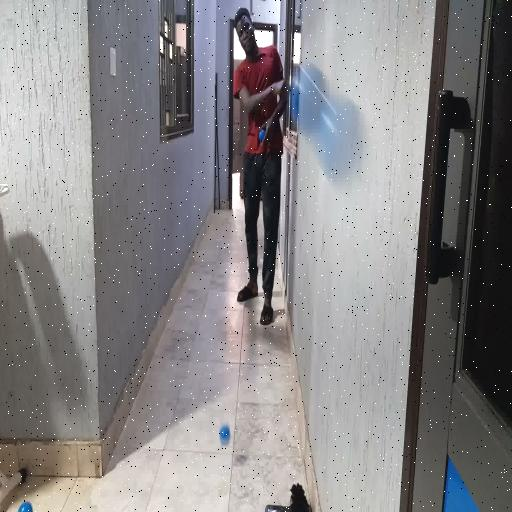plastic-ball: (288, 64, 372, 192)
